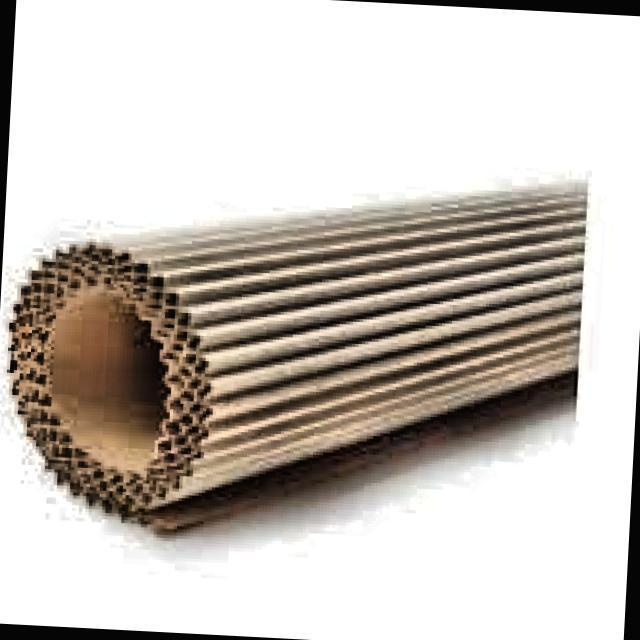cardboard: (0, 147, 588, 553)
